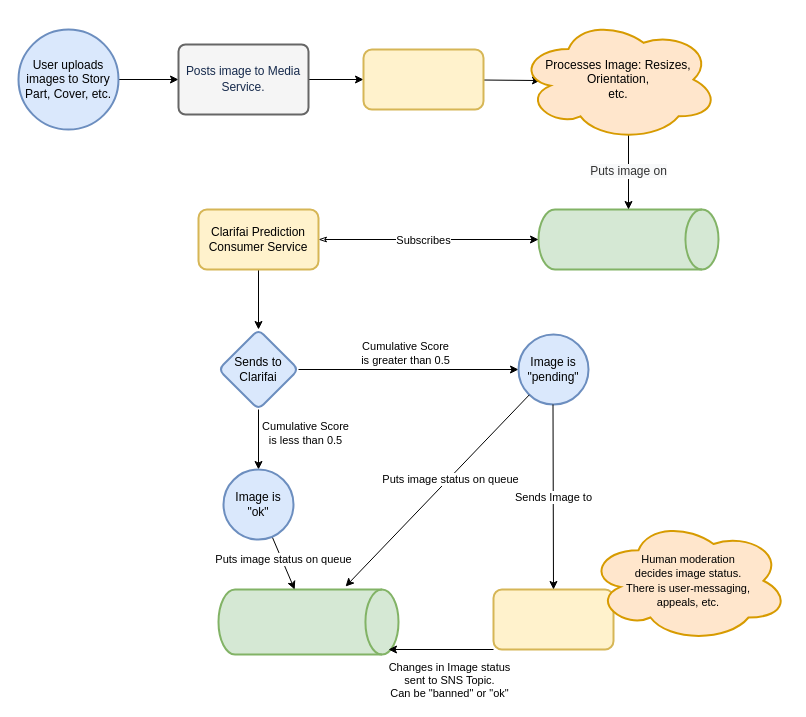
Image size: 806x717. Some labels were removed from this diagram. Here are the shapes that lost their labels. From the top down, the centre of each, then its label:
the point at 423,79: Media Service
the point at 628,239: ImageUploaded SNS Topic
the point at 308,621: ImageModerated SNS Topic
the point at 553,619: Sixth Gear Image Moderation (Human)
